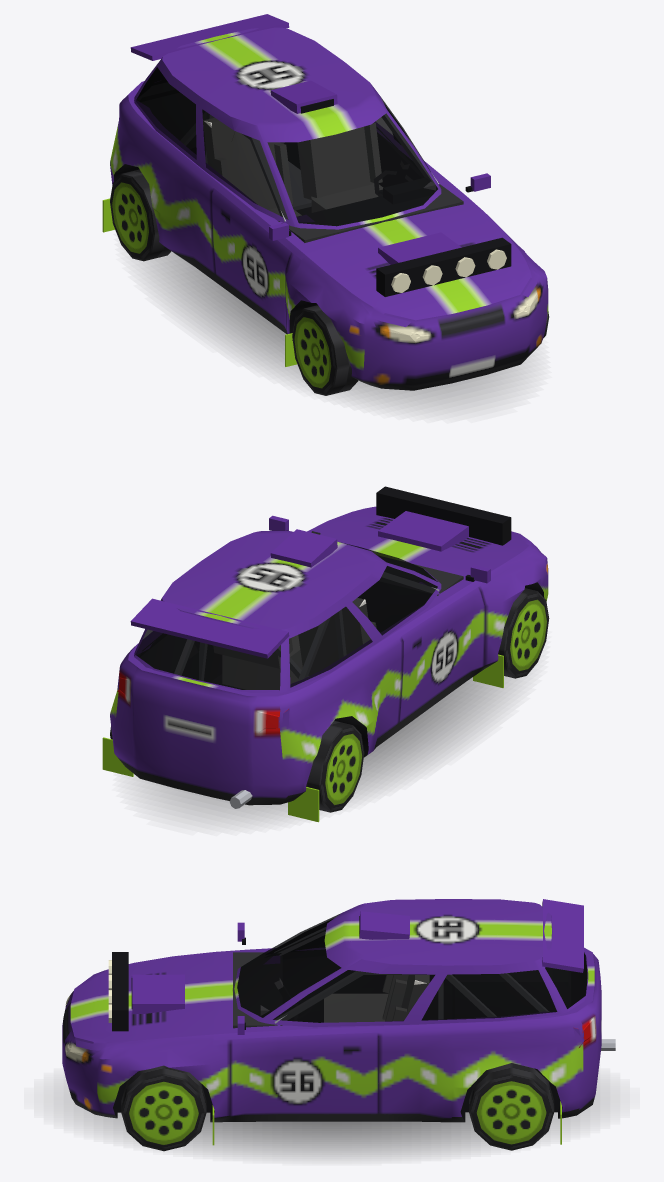
The model's file is ametista.glb.
The picture shows the model from 3 angles, top to bottom: view 1: azimuth 30°, elevation 25°; view 2: azimuth 150°, elevation 25°; view 3: azimuth 270°, elevation 25°; orthographic projection. The views are drawn at different scales.
Parts seen in each view (by area): view 1: Carroceria, Interior, Capo_malha, Porta_D_malha, Sombra, Roda_DD, Roda_TD, Tampa_malha, Farol, Porta_E_malha; view 2: Carroceria, Tampa_malha, Interior, Capo_malha, Porta_D_malha, Sombra, Roda_TD, Roda_DD, Lanterna; view 3: Carroceria, Porta_E_malha, Interior, Sombra, Capo_malha, Roda_TE, Roda_DE, Tampa_malha, Porta_D_malha.
Boxes of the visible parts, x1=… form: Carroceria: x1=102, y1=27, x2=548, y2=390; Interior: x1=137, y1=82, x2=463, y2=242; Capo_malha: x1=311, y1=212, x2=538, y2=326; Porta_D_malha: x1=211, y1=120, x2=294, y2=331; Sombra: x1=145, y1=251, x2=525, y2=408; Roda_DD: x1=292, y1=305, x2=358, y2=395; Roda_TD: x1=110, y1=169, x2=171, y2=261; Tampa_malha: x1=130, y1=14, x2=289, y2=96; Farol: x1=382, y1=290, x2=540, y2=342; Porta_E_malha: x1=373, y1=89, x2=490, y2=192; Carroceria: x1=102, y1=511, x2=548, y2=822; Tampa_malha: x1=130, y1=598, x2=289, y2=784; Interior: x1=137, y1=531, x2=463, y2=689; Capo_malha: x1=315, y1=486, x2=538, y2=571; Porta_D_malha: x1=373, y1=561, x2=490, y2=721; Sombra: x1=141, y1=676, x2=517, y2=821; Roda_TD: x1=306, y1=720, x2=364, y2=812; Roda_DD: x1=498, y1=588, x2=549, y2=678; Lanterna: x1=117, y1=667, x2=289, y2=733; Carroceria: x1=62, y1=899, x2=615, y2=1145; Porta_E_malha: x1=230, y1=959, x2=379, y2=1116; Interior: x1=233, y1=927, x2=586, y2=1028; Sombra: x1=63, y1=1085, x2=600, y2=1156; Capo_malha: x1=76, y1=952, x2=213, y2=1050; Roda_TE: x1=469, y1=1063, x2=554, y2=1150; Roda_DE: x1=121, y1=1065, x2=206, y2=1151; Tampa_malha: x1=540, y1=899, x2=601, y2=1085; Porta_D_malha: x1=237, y1=920, x2=330, y2=954.
Size of the model in its own units: 2.38 by 1.45 by 4.61.
14 materials, 5 textured.
